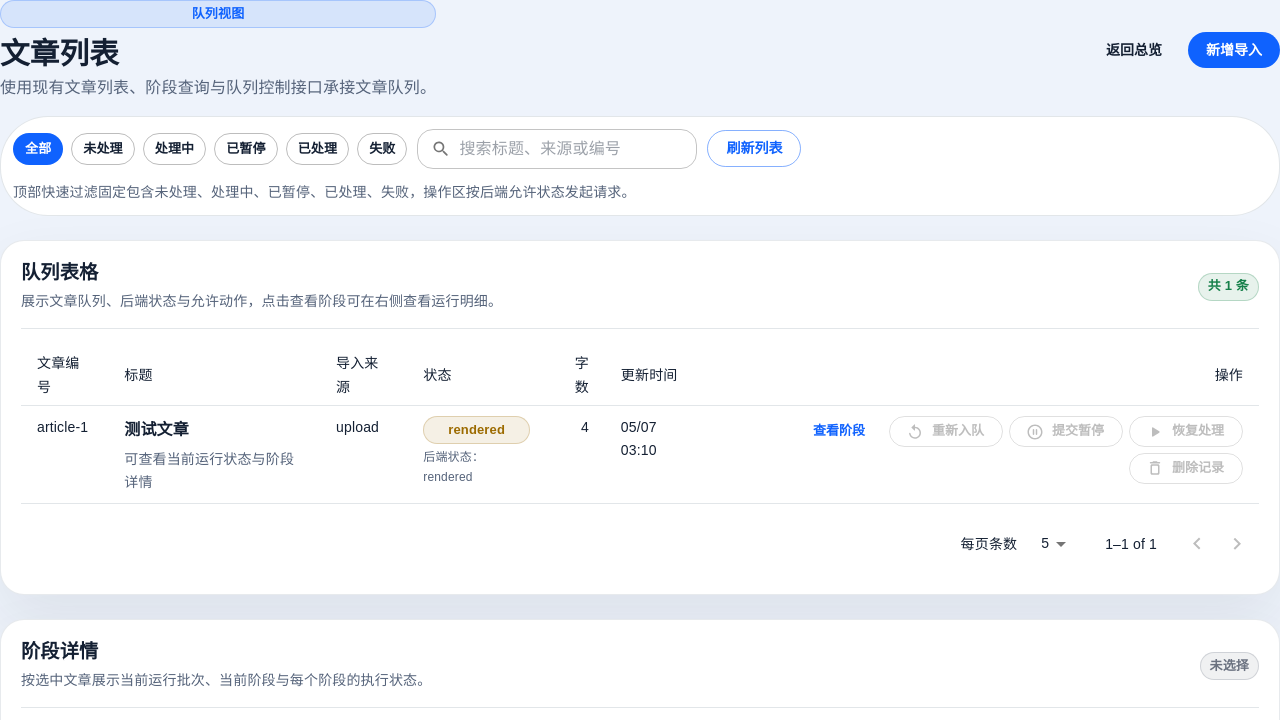
Scenario: ArticlesPage › surfaces the detail API error message in the stage detail panel
expect the heading "测试文章" is shown: met, box [124,421,189,438]
Click the row "article-1": (640, 455) [21,406,1259,504]
(page scrolled)
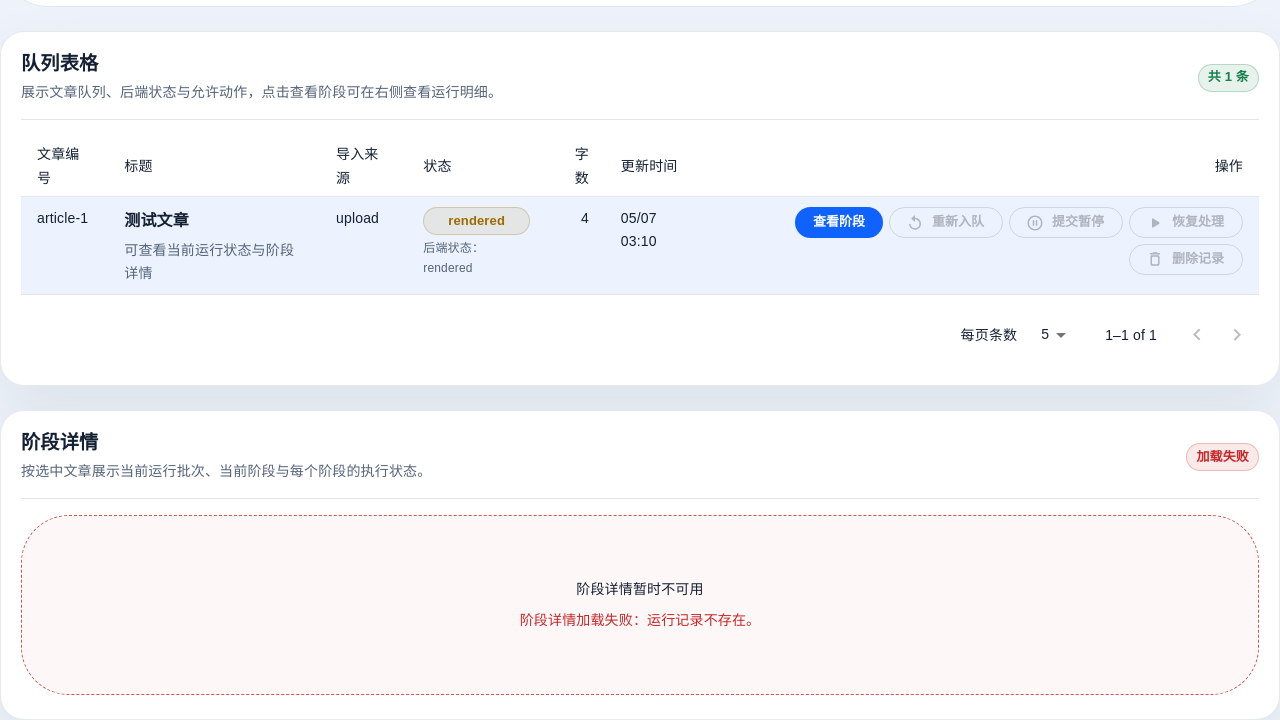
expect the text "阶段详情加载失败：运行记录不存在。" is shown: met, box [520,609,760,632]
